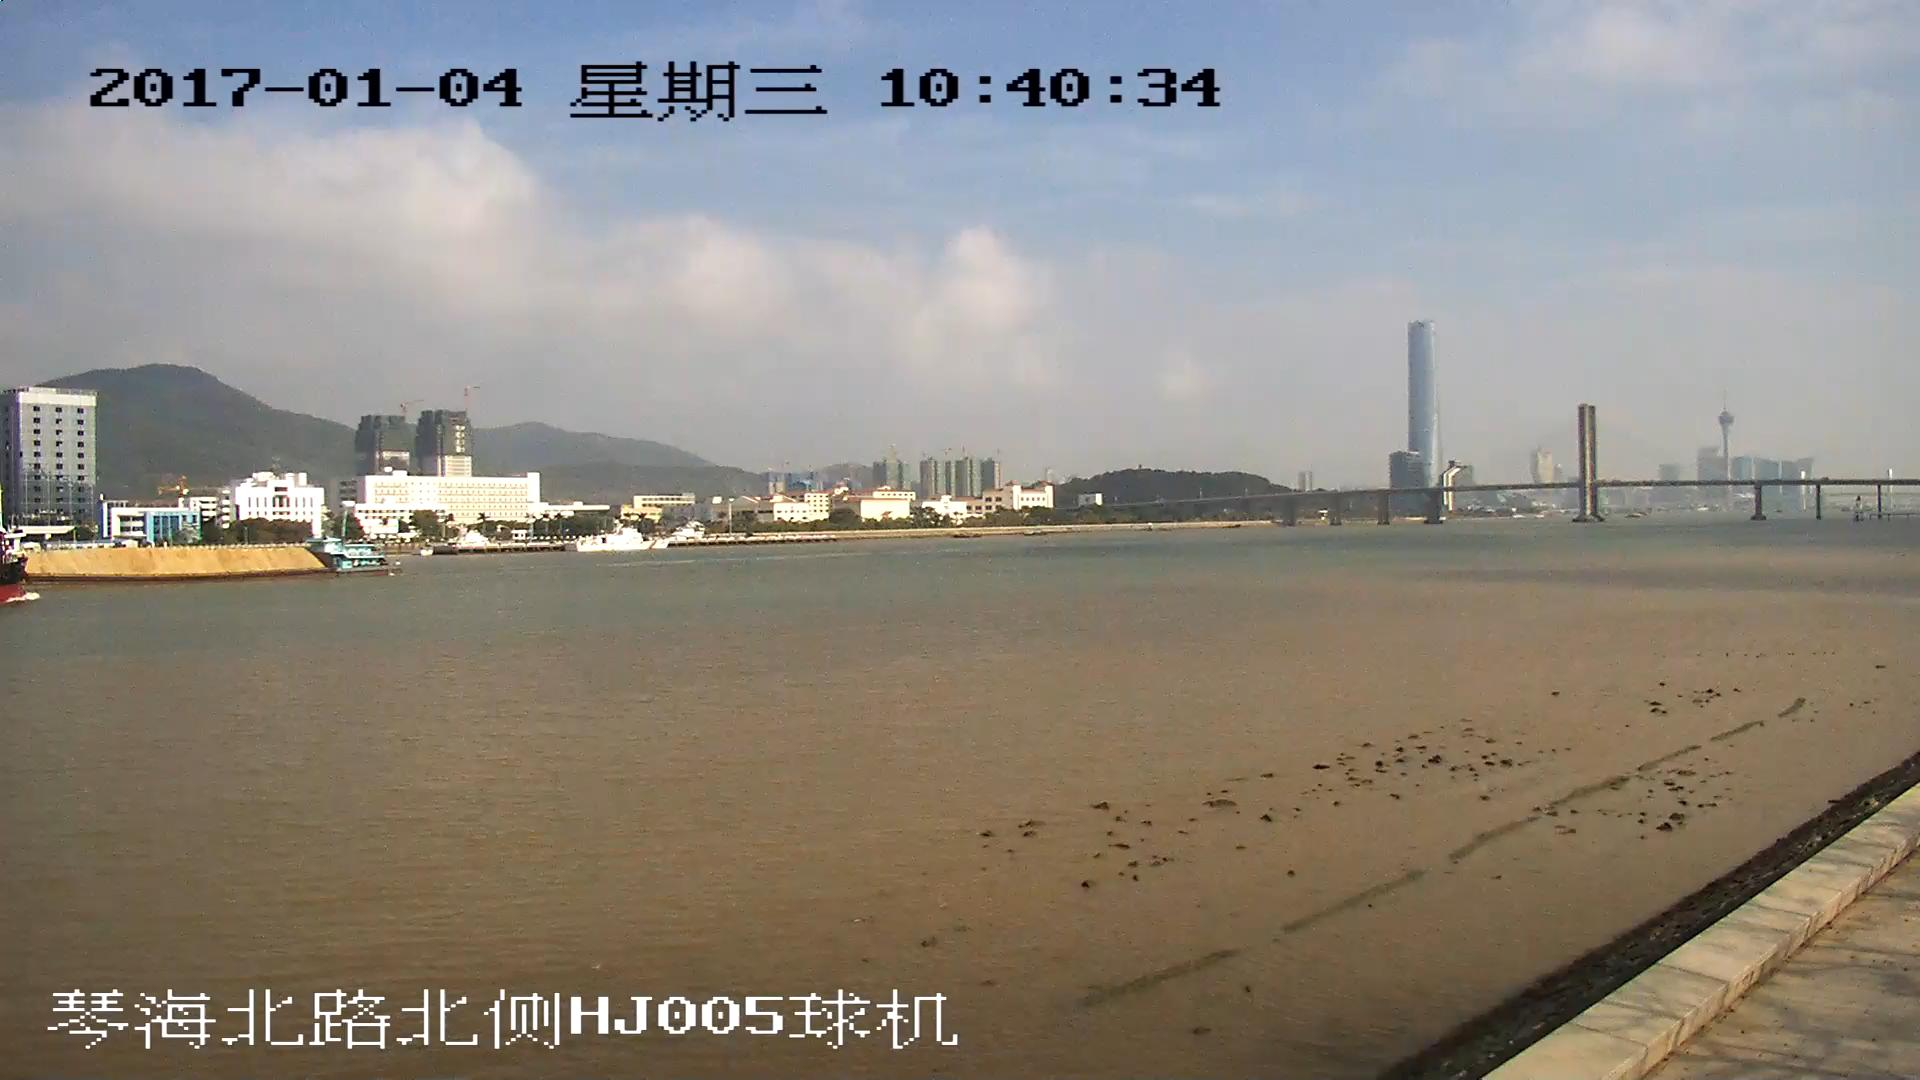ore carrier: (1, 535, 395, 578)
